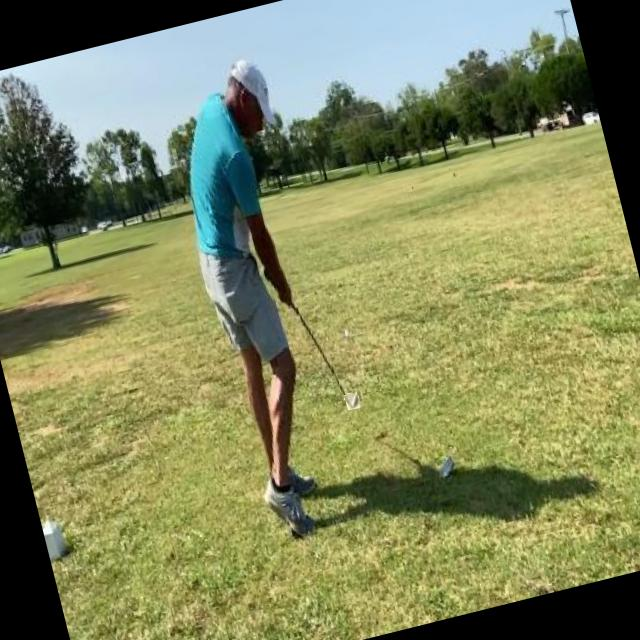club head: (344, 391, 361, 410)
